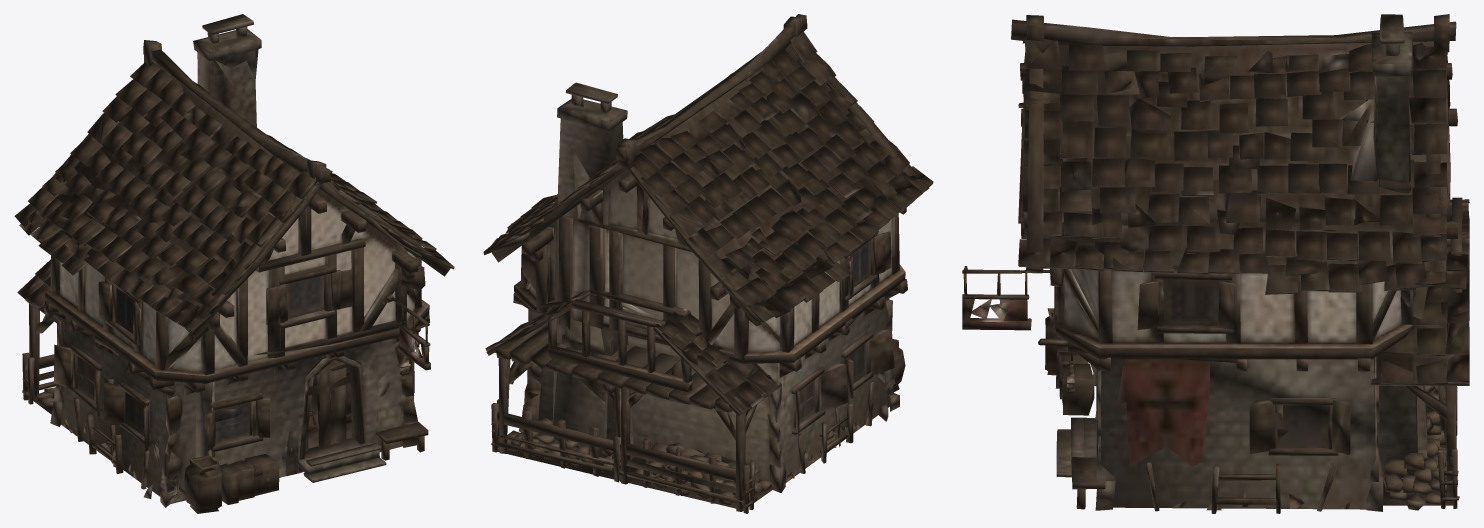
File: x_tavern.glb
3 views of the same model, side by side, from view 1: azimuth 30°, elevation 25°; view 2: azimuth 150°, elevation 25°; view 3: azimuth 270°, elevation 25° (orthographic). The views are drawn at different scales.
Visible parts, largest first — view 1: x_tavern; view 2: x_tavern; view 3: x_tavern.
Part boxes in pixels (x1,y1,x2,y2): x_tavern: [14, 14, 454, 513]; x_tavern: [483, 14, 933, 513]; x_tavern: [962, 14, 1469, 513].
Bounding box in the file's own units: 1.15 × 1.28 × 1.33.
1 material, 1 textured.
